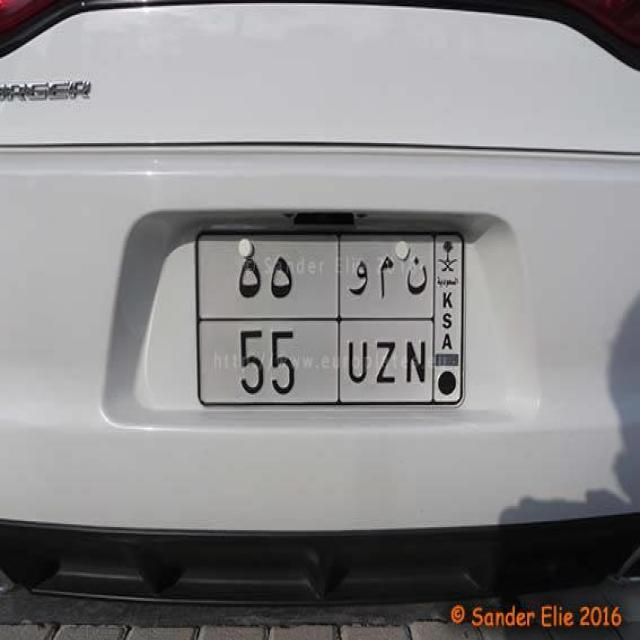license_plate: (172, 213, 466, 424)
